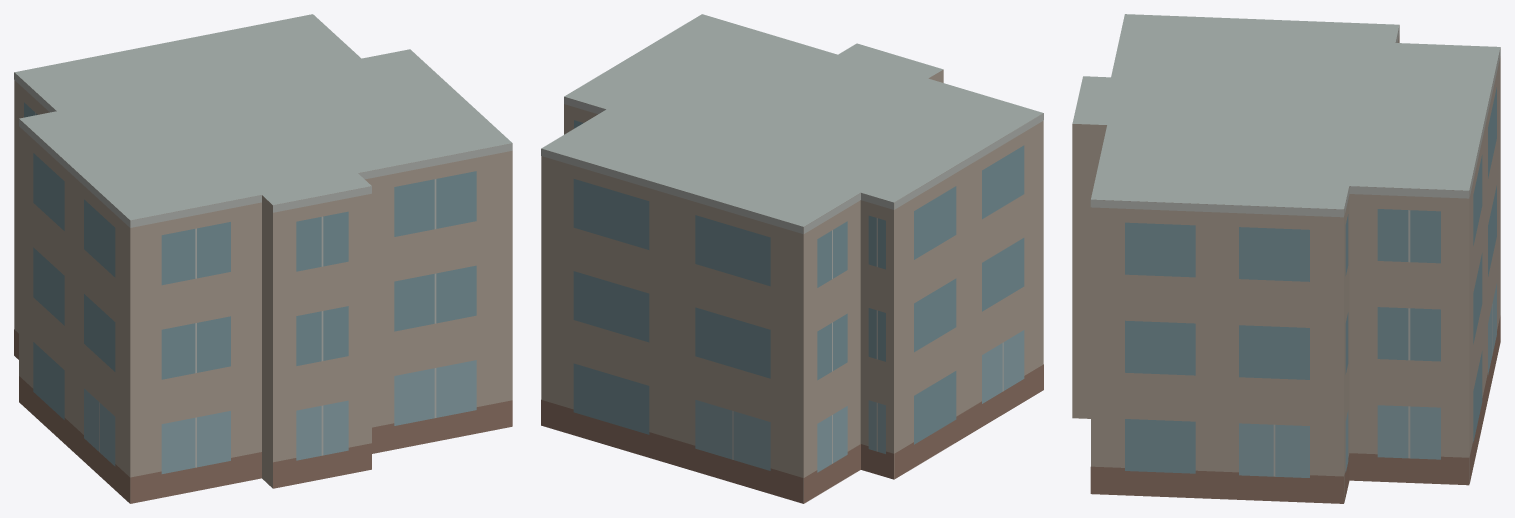
File: survey-upis-32658366.glb
3 views of the same model, side by side, from view 1: azimuth 30°, elevation 25°; view 2: azimuth 150°, elevation 25°; view 3: azimuth 270°, elevation 25° (orthographic). The views are drawn at different scales.
Visible parts, largest first — view 1: survey-upis-32658366.tmp; view 2: survey-upis-32658366.tmp; view 3: survey-upis-32658366.tmp.
Part boxes in pixels (x1=…): survey-upis-32658366.tmp: x1=14, y1=14, x2=512, y2=503; survey-upis-32658366.tmp: x1=541, y1=14, x2=1043, y2=503; survey-upis-32658366.tmp: x1=1072, y1=14, x2=1500, y2=503.
Bounding box in the file's own units: 12.96 × 9.1 × 12.
